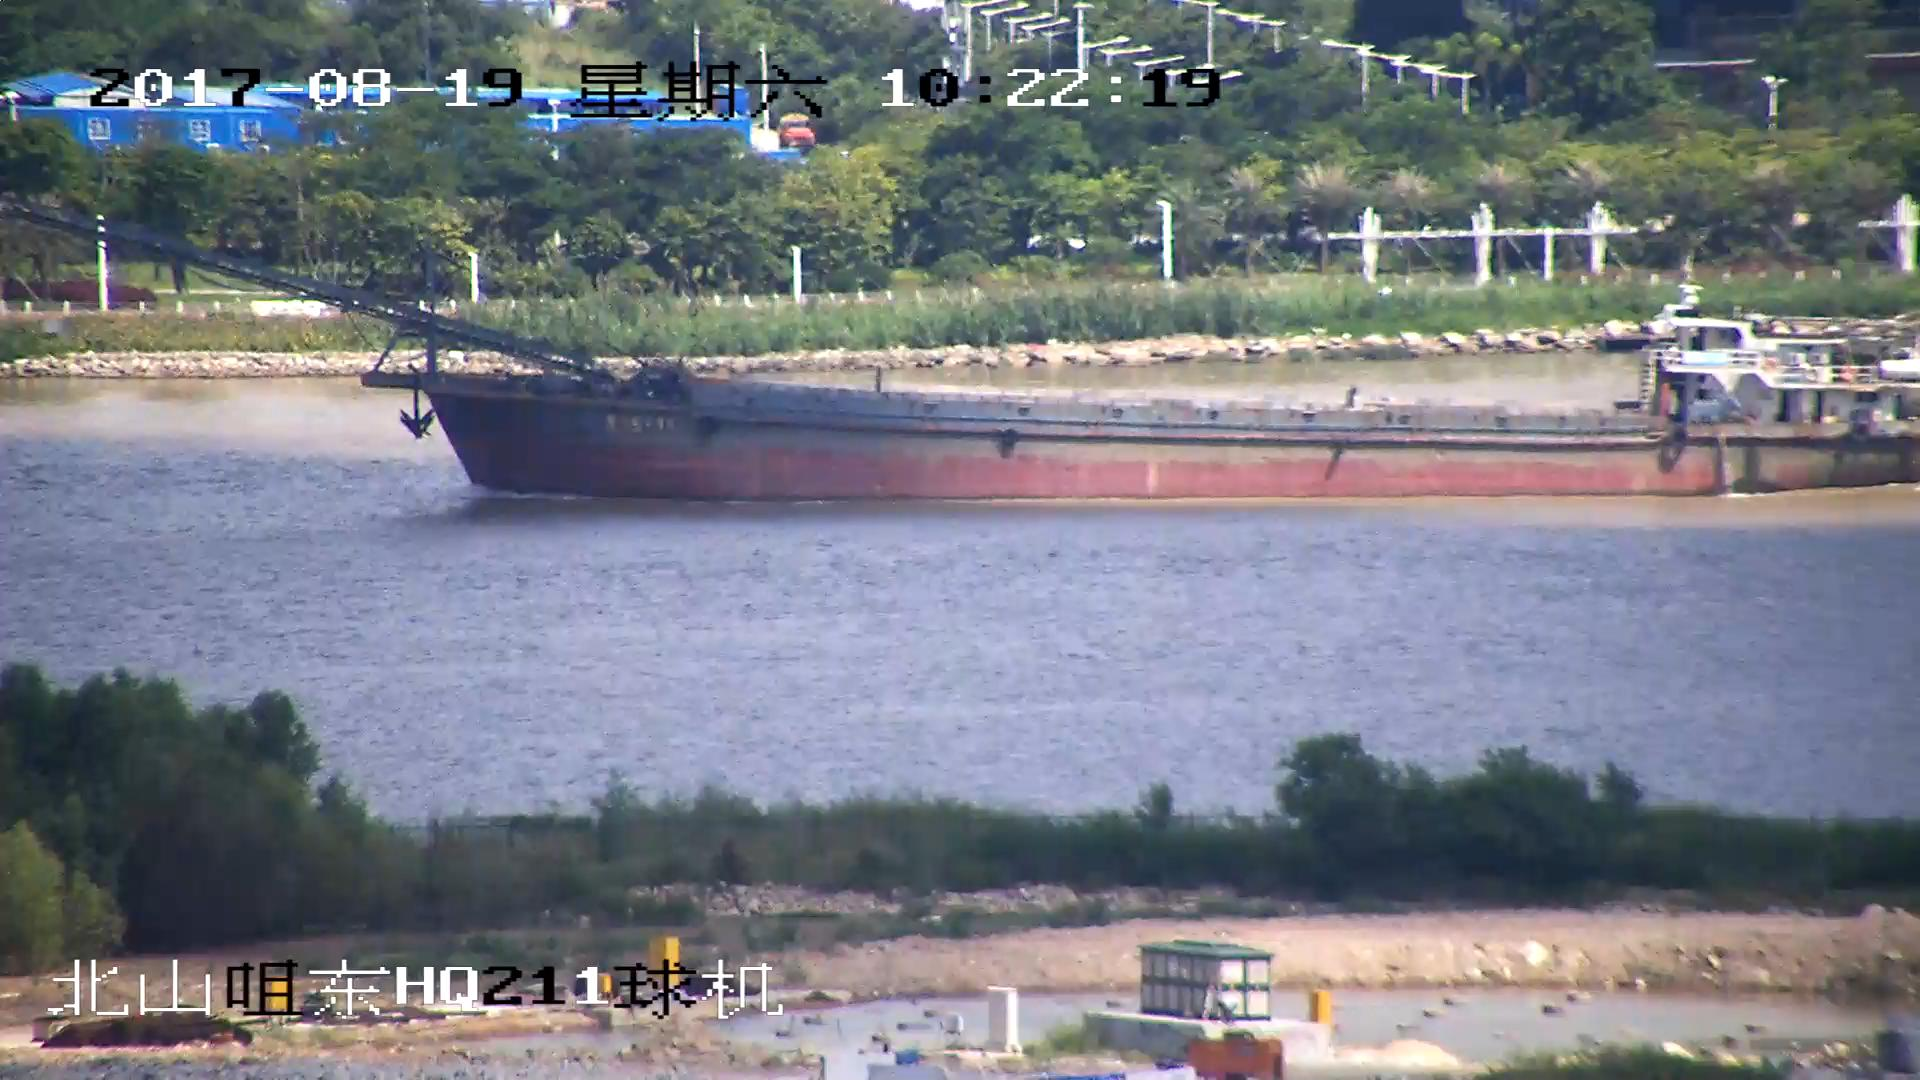bulk cargo carrier: (27, 214, 1920, 498)
